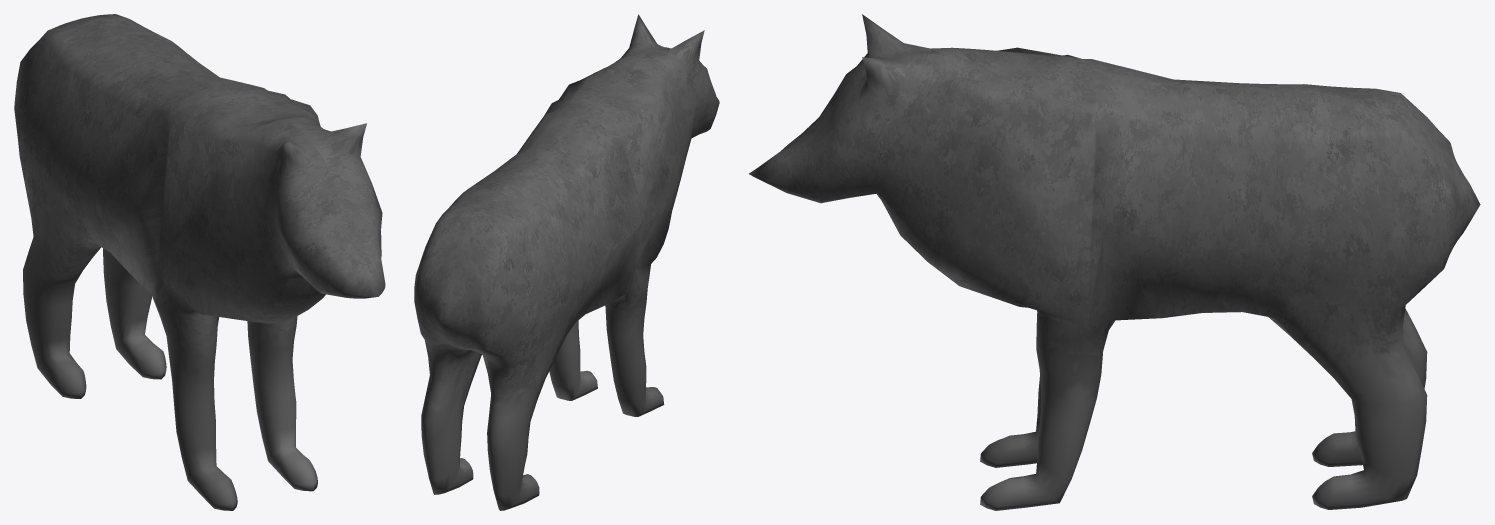
The model's file is piesblend_000040.obj.
3 renders of one model, left to right at view 1: azimuth 30°, elevation 25°; view 2: azimuth 150°, elevation 25°; view 3: azimuth 270°, elevation 25°, orthographic. The views are drawn at different scales.
Visible parts, largest first — view 1: Cube; view 2: Cube; view 3: Cube.
Part boxes in pixels (box(x1,y1,x2,y2)): Cube: box(14, 14, 385, 510); Cube: box(414, 14, 719, 510); Cube: box(749, 14, 1480, 510).
Size of the model in its own units: 2.55 by 6.08 by 9.01.
1 material, 1 textured.
